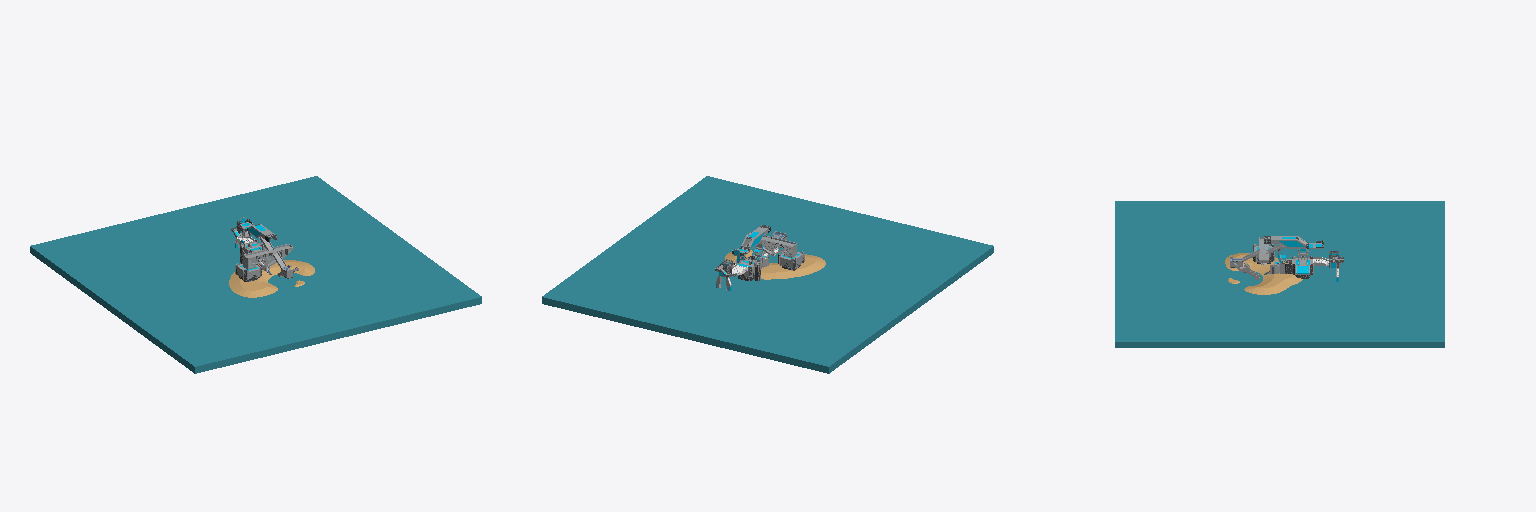
File: home-level.obj
The picture shows the model from 3 angles: view 1: azimuth 30°, elevation 25°; view 2: azimuth 150°, elevation 25°; view 3: azimuth 270°, elevation 25°; orthographic projection.
Visible parts, largest first — view 1: Mesh91 Small_Island1 Model, Mesh60 Walkway__Large1 Model; view 2: Mesh91 Small_Island1 Model; view 3: Mesh91 Small_Island1 Model.
Part boxes in pixels (left/top/right/bottom): Mesh91 Small_Island1 Model: left=30, top=176, right=481, bottom=373; Mesh60 Walkway__Large1 Model: left=243, top=244, right=293, bottom=269; Mesh91 Small_Island1 Model: left=542, top=176, right=993, bottom=373; Mesh91 Small_Island1 Model: left=1115, top=201, right=1444, bottom=347.
Bounding box in the file's own units: 99.24 × 14.78 × 98.97.